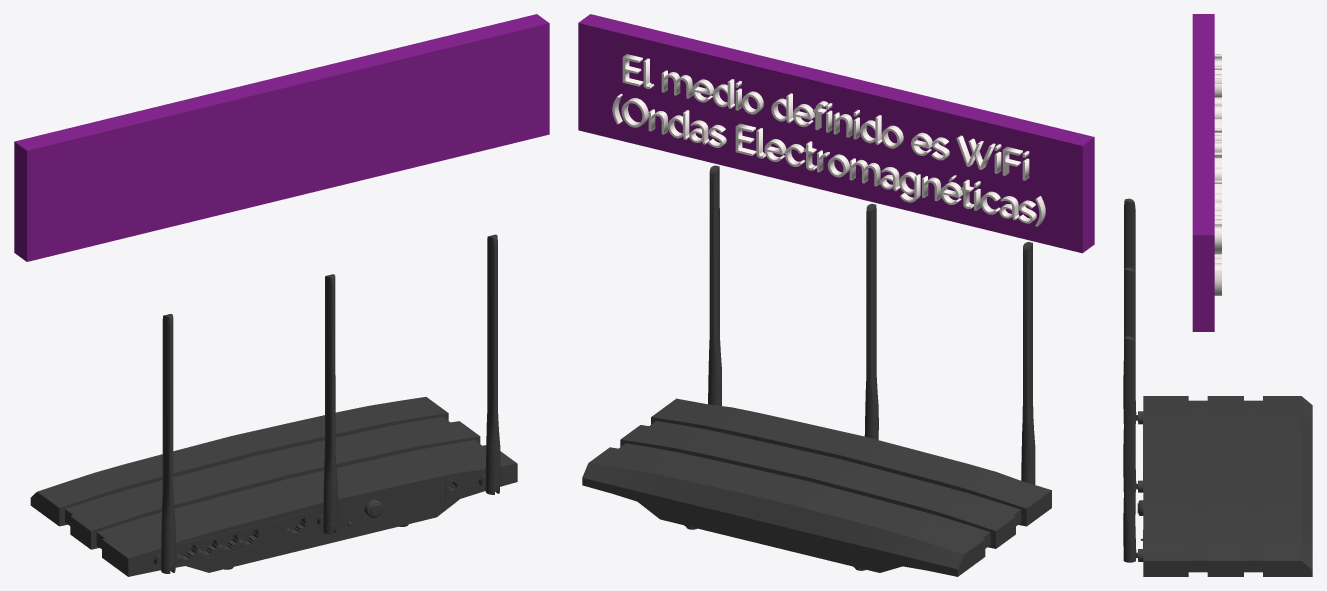
File: capa3.glb
The picture shows the model from 3 angles, left to right: view 1: azimuth 30°, elevation 25°; view 2: azimuth 150°, elevation 25°; view 3: azimuth 270°, elevation 25°; orthographic projection. The views are drawn at different scales.
Visible parts, largest first — view 1: Cube, TP_link_; view 2: TP_link_, Cube, Text; view 3: TP_link_, Cube, Text.
Part boxes in pixels (x1=…): Cube: x1=14, y1=14, x2=549, y2=261; TP_link_: x1=30, y1=234, x2=517, y2=576; TP_link_: x1=582, y1=165, x2=1051, y2=576; Cube: x1=578, y1=14, x2=1094, y2=253; Text: x1=612, y1=54, x2=1045, y2=226; TP_link_: x1=1123, y1=198, x2=1312, y2=576; Cube: x1=1192, y1=14, x2=1214, y2=331; Text: x1=1214, y1=54, x2=1221, y2=295.
Size of the model in its own units: 4.18 by 3.41 by 1.51.
